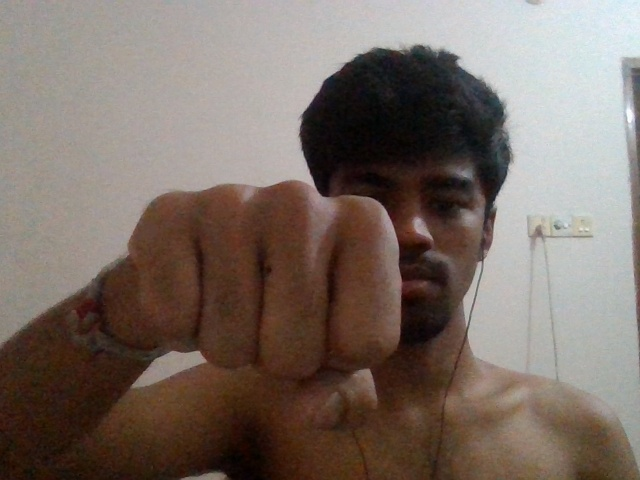Yes: (118, 178, 415, 453)
